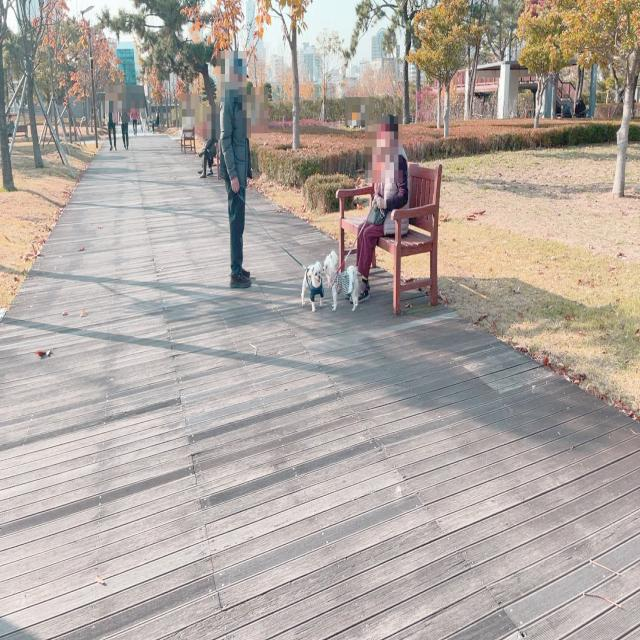Leashed_Dog: (235, 192, 325, 313), (322, 224, 371, 314)
